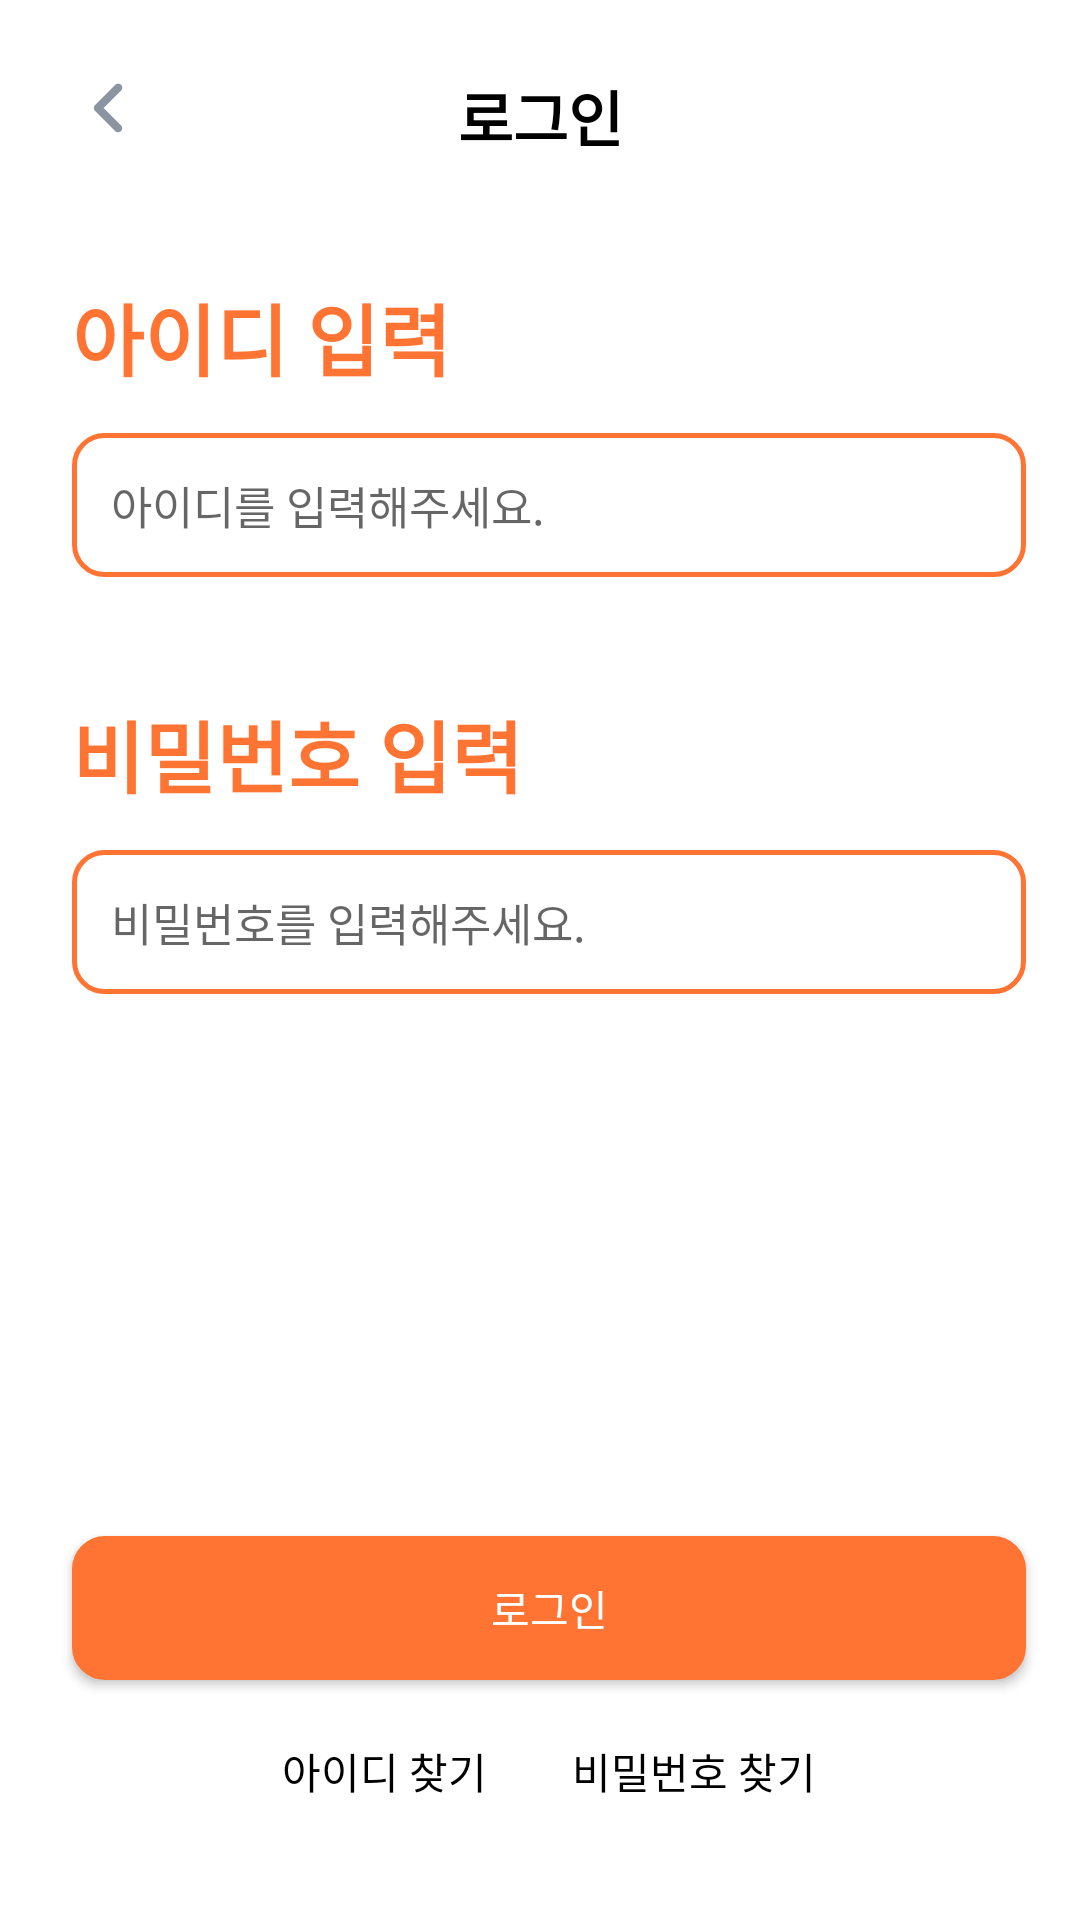

Icons on this 1080px×1920px Android screen, each with the point to tap as [x,y]:
arrow left mono: [108,108]
